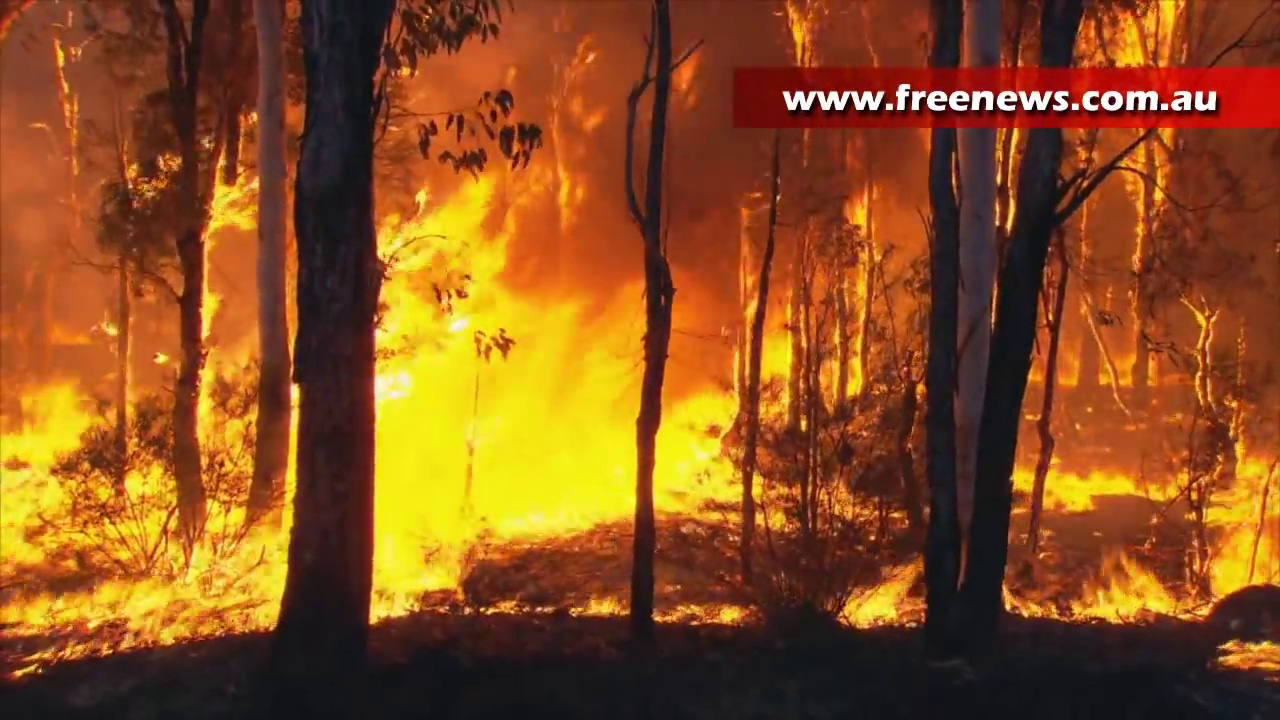fire: (373, 189, 627, 615), (1, 365, 276, 651), (660, 403, 747, 510), (1219, 459, 1280, 590), (1076, 558, 1167, 628), (844, 568, 923, 627), (1095, 9, 1176, 61), (211, 174, 258, 229), (1042, 469, 1091, 516), (785, 2, 817, 70), (1229, 634, 1280, 674), (763, 332, 788, 389), (840, 198, 869, 229)
